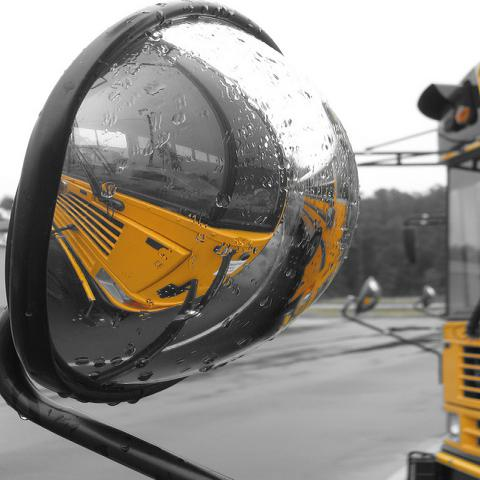bus: (2, 5, 477, 472)
